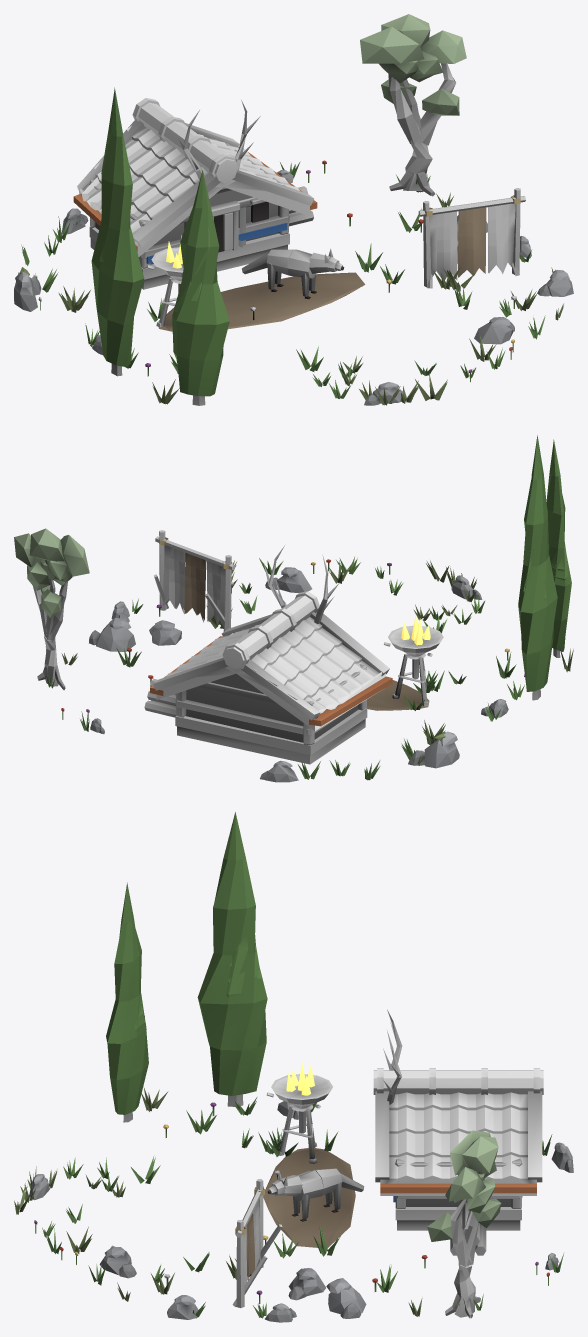
File: hunters-lodge-l1.glb
The picture shows the model from 3 angles, top to bottom: view 1: azimuth 30°, elevation 25°; view 2: azimuth 150°, elevation 25°; view 3: azimuth 270°, elevation 25°; orthographic projection. The views are drawn at different scales.
Parts seen in each view (by area): view 1: hunters-lodge-l1; view 2: hunters-lodge-l1; view 3: hunters-lodge-l1.
Boxes of the visible parts, x1,y1,x2,y2 form: hunters-lodge-l1: [14, 14, 573, 405]; hunters-lodge-l1: [14, 435, 573, 782]; hunters-lodge-l1: [14, 812, 573, 1322].
Bounding box in the file's own units: 1.58 × 0.9315 × 1.59.
